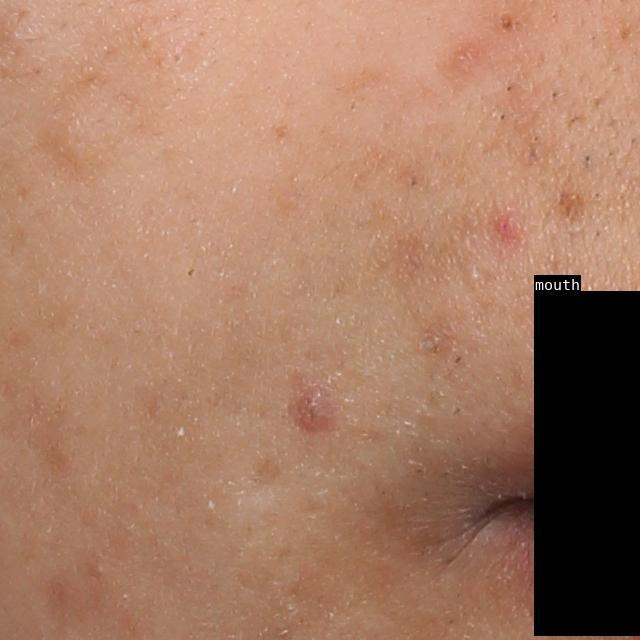comedo: (494, 10, 520, 40)
papule: (286, 385, 343, 434), (492, 209, 532, 250)
